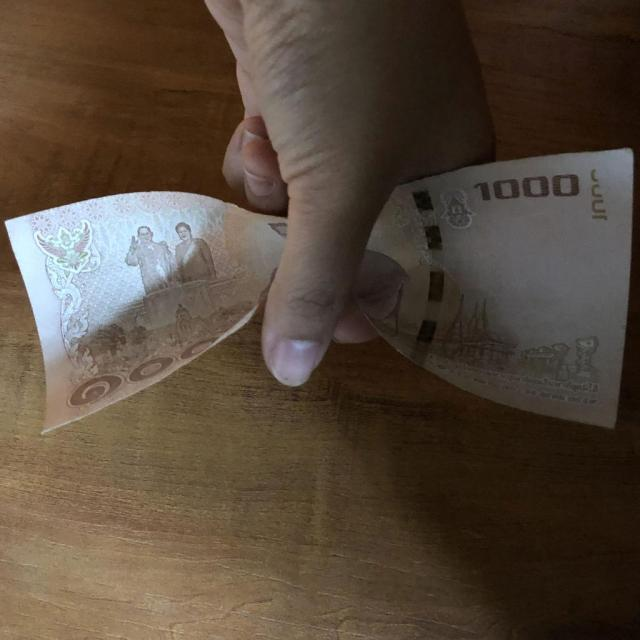THAI1000: (356, 149, 632, 428), (8, 192, 284, 434)
